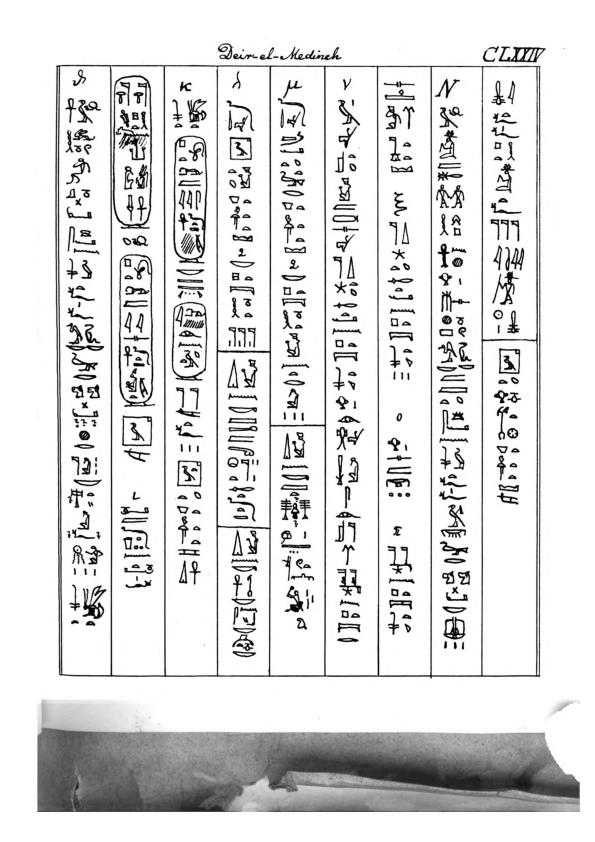circle: (116, 252, 157, 411), (112, 75, 152, 230), (171, 133, 207, 266), (170, 300, 209, 384)
